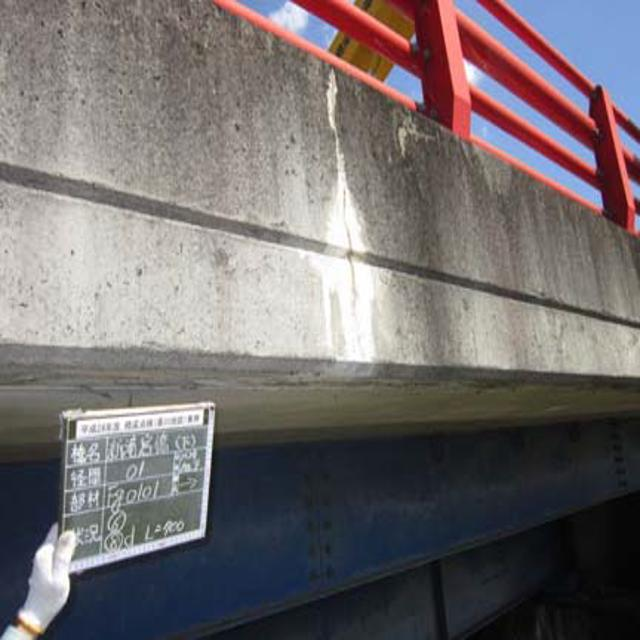freelime: (312, 70, 387, 367)
